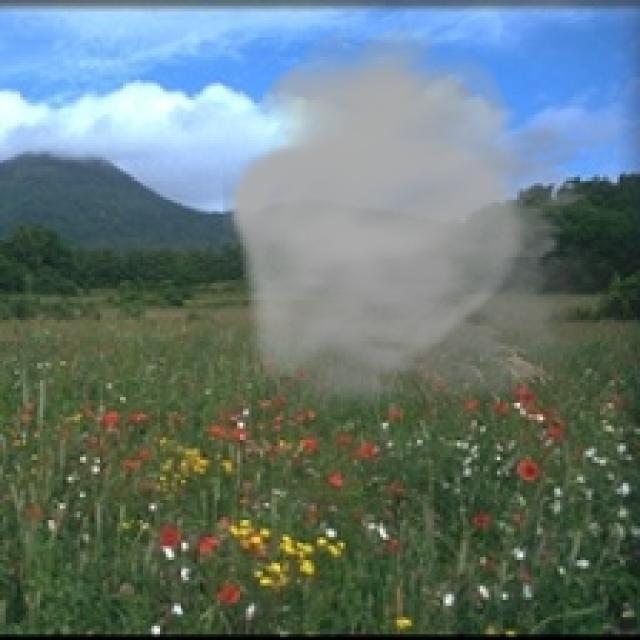smoke: (223, 26, 631, 431)
